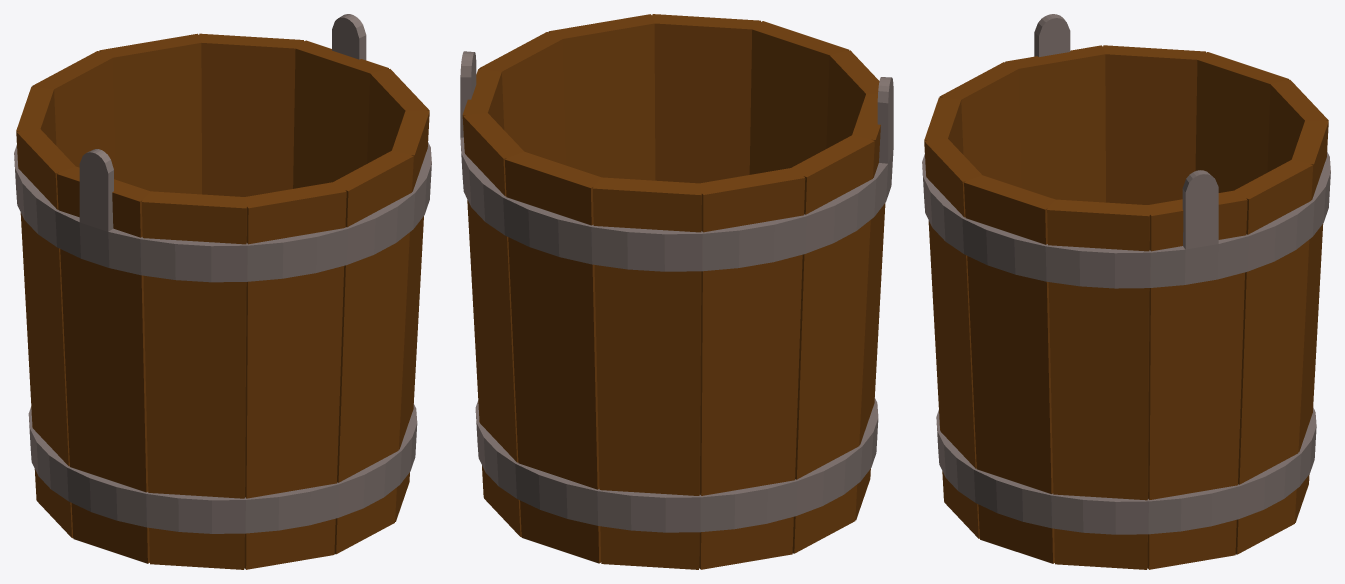
Rendered from bucket.fbx.
3 renders of one model, left to right at view 1: azimuth 30°, elevation 25°; view 2: azimuth 150°, elevation 25°; view 3: azimuth 270°, elevation 25°, orthographic. The views are drawn at different scales.
Visible parts, largest first — view 1: Cylinder.012; view 2: Cylinder.012; view 3: Cylinder.012.
Boxes of the visible parts, x1,y1,x2,y2 form: Cylinder.012: (14, 14, 431, 569); Cylinder.012: (460, 14, 893, 569); Cylinder.012: (922, 14, 1330, 569).
Bounding box in the file's own units: 102 × 110 × 102.
